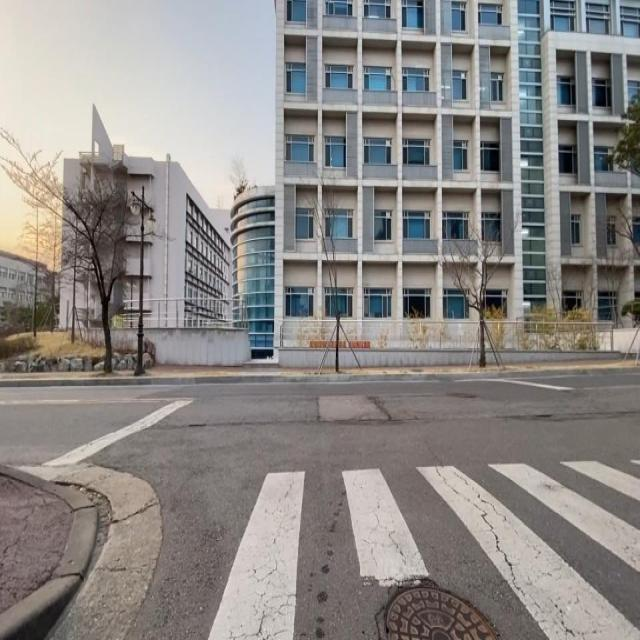sidewalk: (0, 464, 100, 640), (0, 361, 640, 379)
